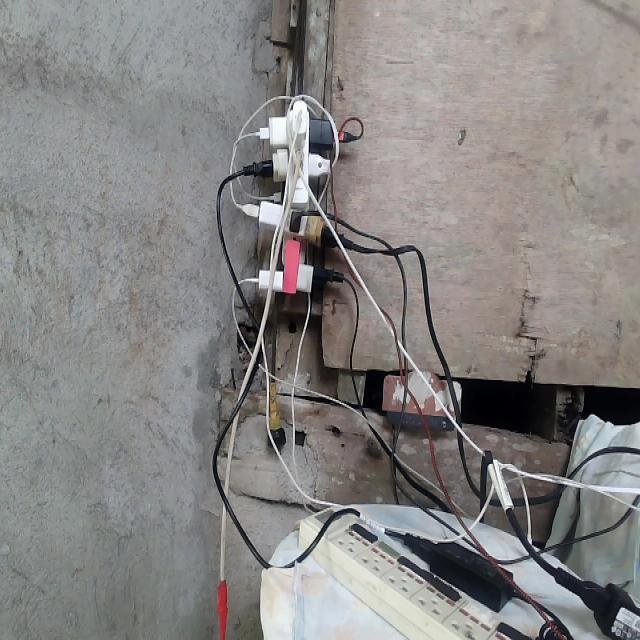-: (238, 93, 355, 295)
